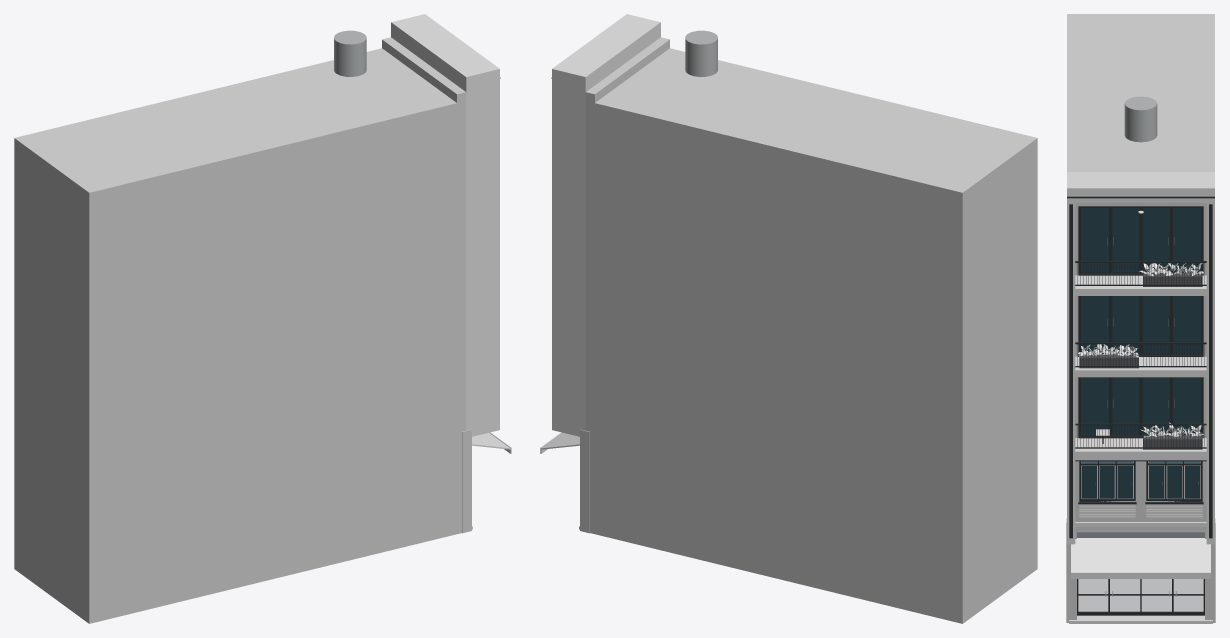
File: OW_Mau_NhaPho_5_5_0.fbx
The picture shows the model from 3 angles, left to right: view 1: azimuth 30°, elevation 25°; view 2: azimuth 150°, elevation 25°; view 3: azimuth 270°, elevation 25°; orthographic projection.
Visible parts, largest first — view 1: OW_NhaPho_9016; view 2: OW_NhaPho_9016; view 3: OW_NhaPho_9016, OW_MatTienKinh.
Part boxes in pixels (<box>): OW_NhaPho_9016: <box>14,14,511,623</box>; OW_NhaPho_9016: <box>540,14,1037,623</box>; OW_NhaPho_9016: <box>1066,14,1215,623</box>; OW_MatTienKinh: <box>1077,530,1204,615</box>.
Size of the model in its own units: 17.77 by 19.45 by 5.5.
